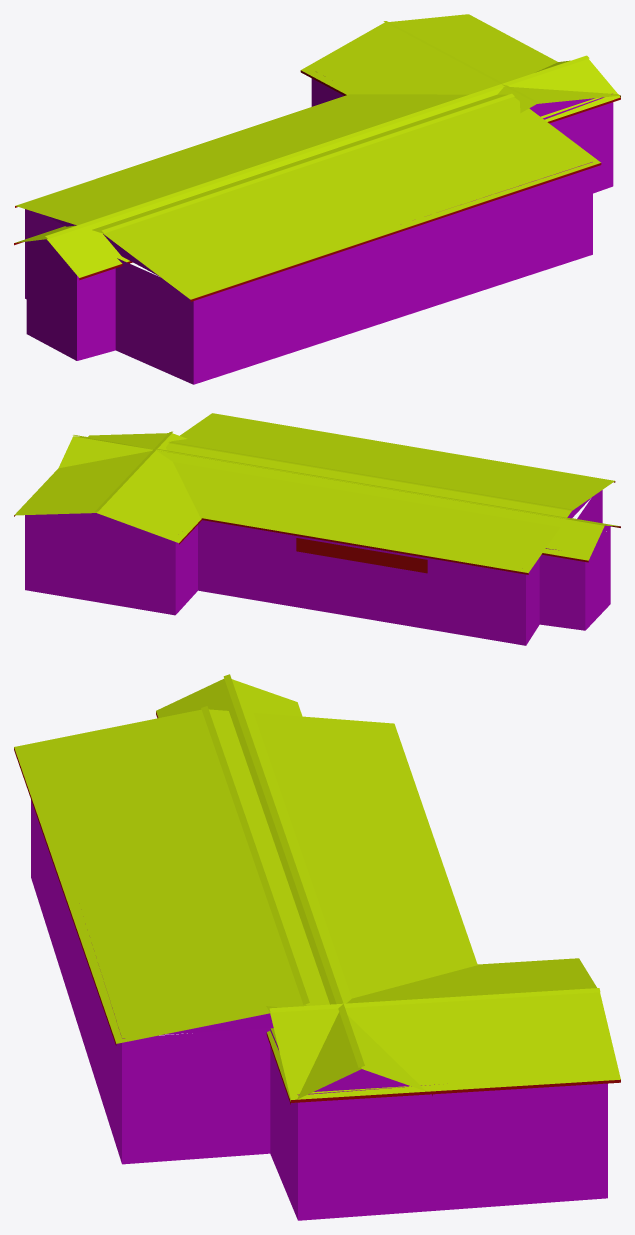
The model's file is sjs_44.glb.
The picture shows the model from 3 angles, top to bottom: view 1: azimuth 30°, elevation 25°; view 2: azimuth 150°, elevation 25°; view 3: azimuth 270°, elevation 25°; orthographic projection. The views are drawn at different scales.
Parts seen in each view (by area): view 1: sjs_44; view 2: sjs_44; view 3: sjs_44.
Boxes of the visible parts, bbox=[...] form: sjs_44: bbox=[14, 14, 620, 384]; sjs_44: bbox=[14, 413, 620, 645]; sjs_44: bbox=[14, 674, 620, 1220].
Size of the model in its own units: 34.76 by 6.23 by 22.27.
